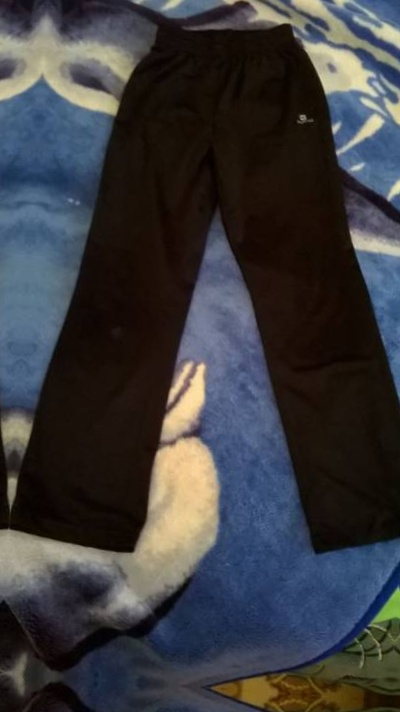Pants: (20, 0, 400, 579), (0, 0, 34, 550)
